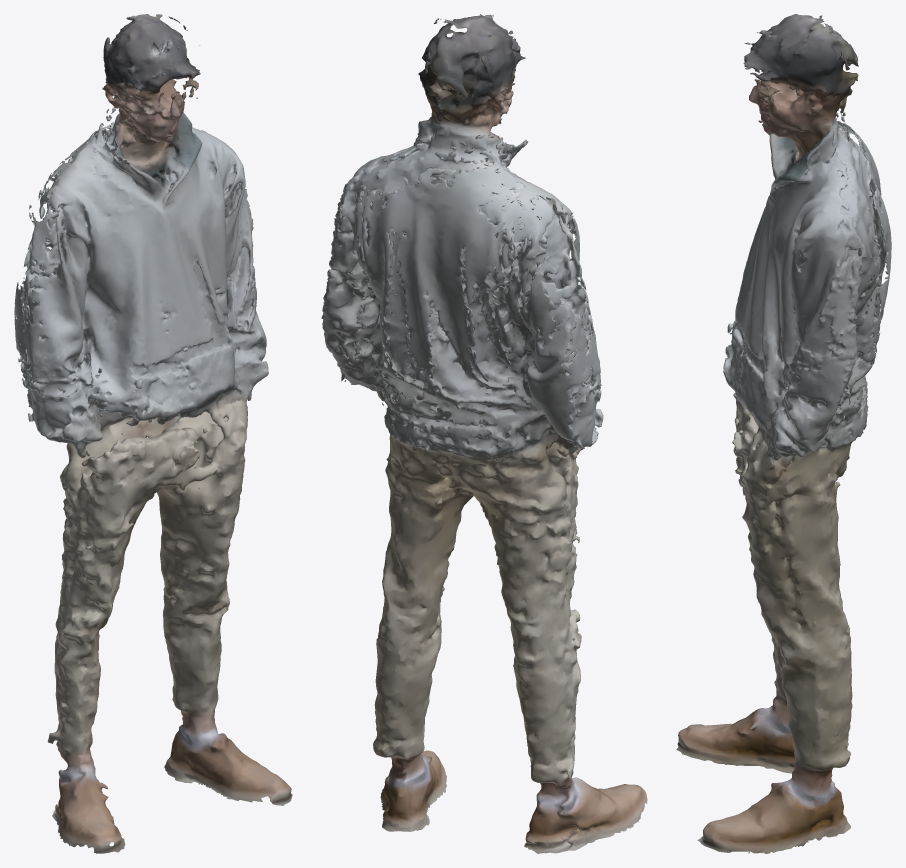
Rendered from JerMesh1.glb.
3 renders of one model, left to right at view 1: azimuth 30°, elevation 25°; view 2: azimuth 150°, elevation 25°; view 3: azimuth 270°, elevation 25°, orthographic. The views are drawn at different scales.
Visible parts, largest first — view 1: Mesh_0; view 2: Mesh_0; view 3: Mesh_0.
Boxes of the visible parts, bbox=[...] form: Mesh_0: bbox=[14, 14, 292, 853]; Mesh_0: bbox=[321, 14, 647, 853]; Mesh_0: bbox=[676, 14, 891, 853].
Size of the model in its own units: 1.05 by 3.17 by 0.7875.
